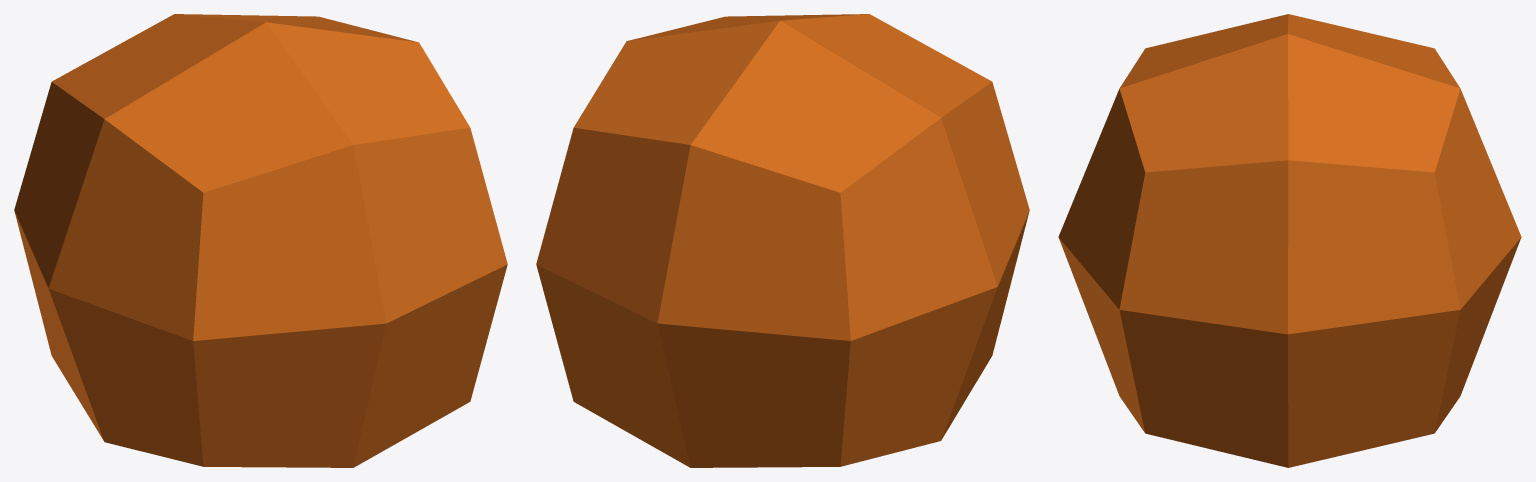
The model's file is eggYolk.fbx.
The picture shows the model from 3 angles, left to right: view 1: azimuth 30°, elevation 25°; view 2: azimuth 150°, elevation 25°; view 3: azimuth 270°, elevation 25°; orthographic projection. The views are drawn at different scales.
Parts seen in each view (by area): view 1: eggYolk; view 2: eggYolk; view 3: eggYolk.
Boxes of the visible parts, bbox=[...] form: eggYolk: bbox=[14, 14, 507, 467]; eggYolk: bbox=[536, 14, 1029, 467]; eggYolk: bbox=[1058, 14, 1521, 467].
Bounding box in the file's own units: 2.92 × 2.87 × 2.88.
1 material, 1 textured.
